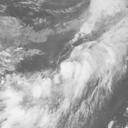cyclone: (35, 51, 97, 99)
